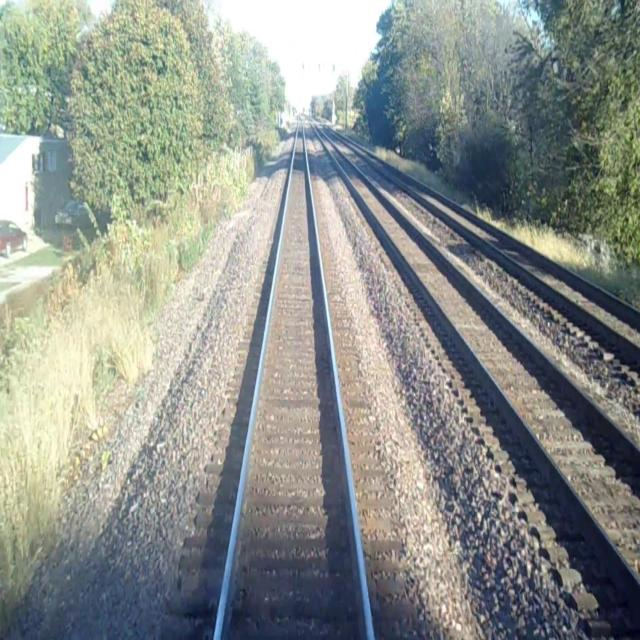rail-track: (311, 123, 640, 580), (219, 120, 369, 639), (326, 127, 640, 346)
